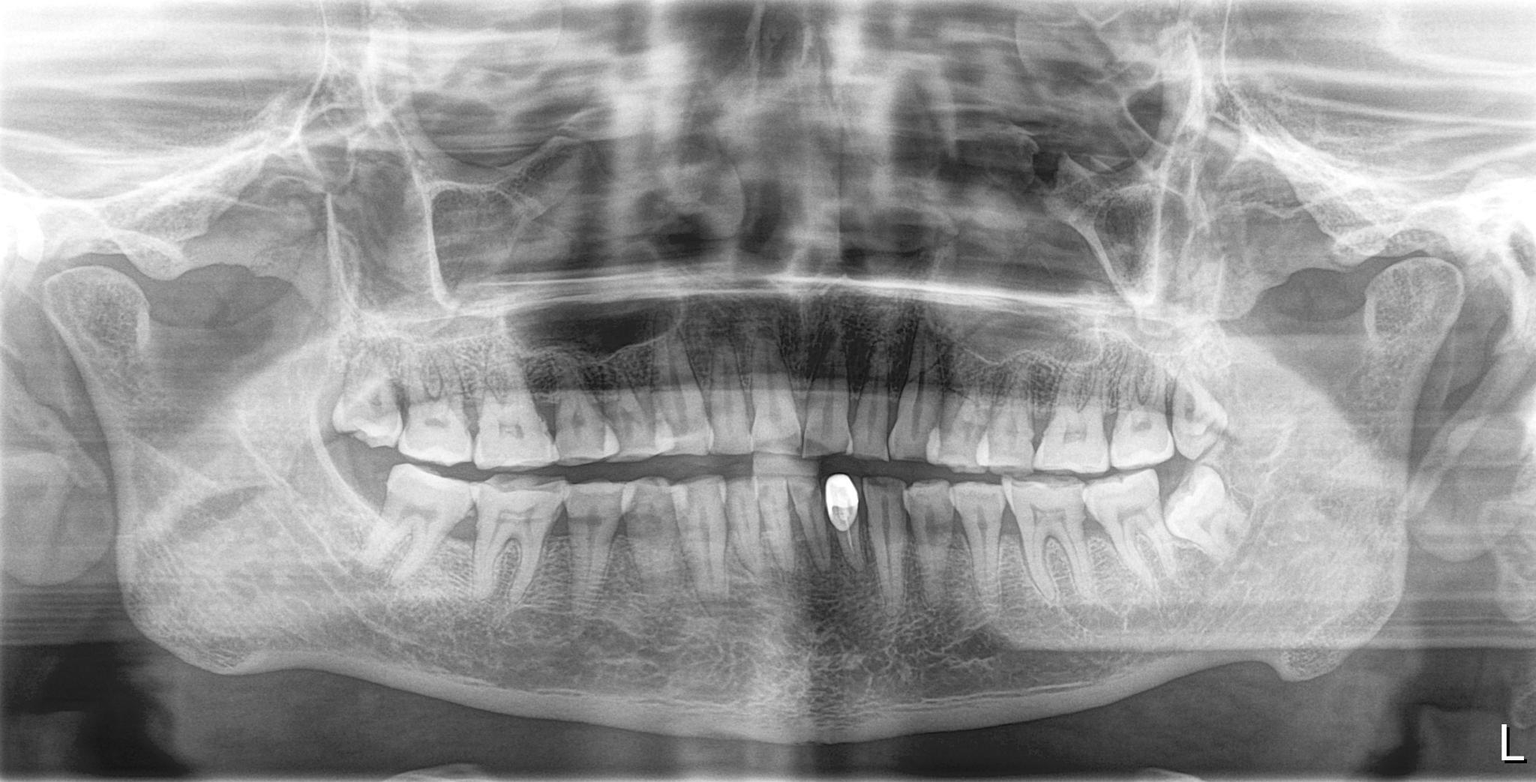Endodontically Treated Tooth: (829, 474, 878, 589)
Impacted Third Molar: (1170, 472, 1255, 556), (1169, 361, 1235, 460), (330, 367, 403, 444)
Missing Tooth: (321, 450, 382, 552)
